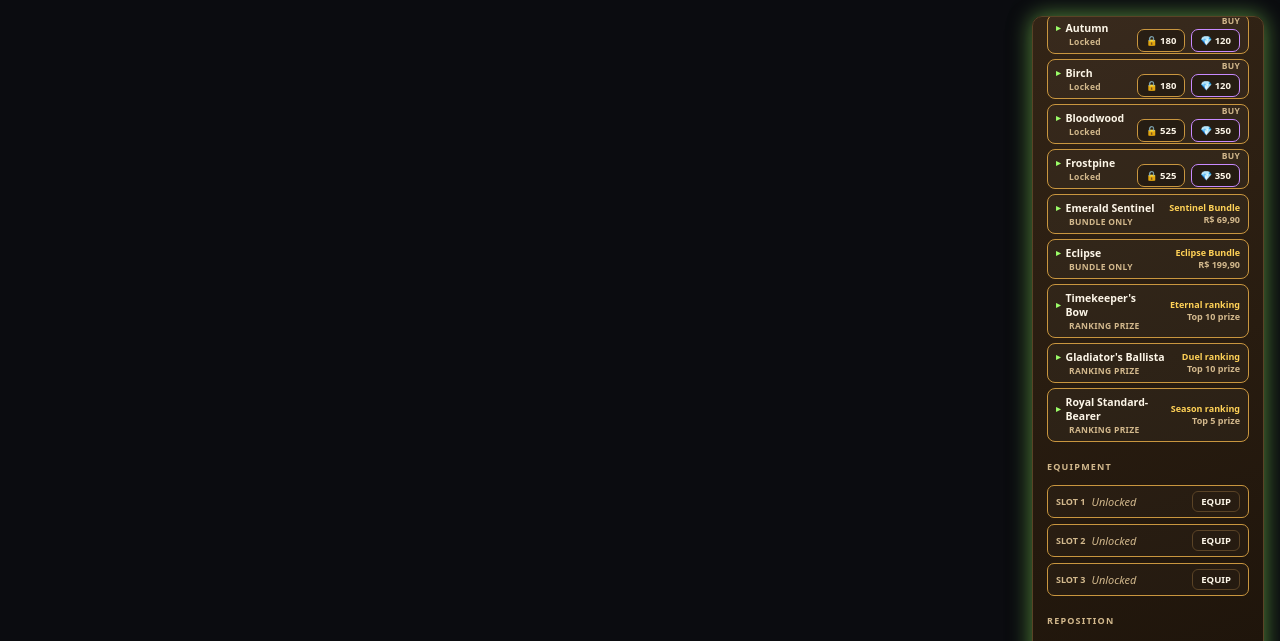
TowerInfoPanel — Equipment slots (BALANCEAMENTO DEFINITIVO spec section 7/8) › the picker shows a clear message instead of an empty list when no inventory item is eligible
This screenshot has width=1280, height=641.
(page scrolled)
Click the button "EQUIP" in the row of "SLOT 1".
click(1216, 501)  # box left=1192, top=491, right=1240, bottom=512
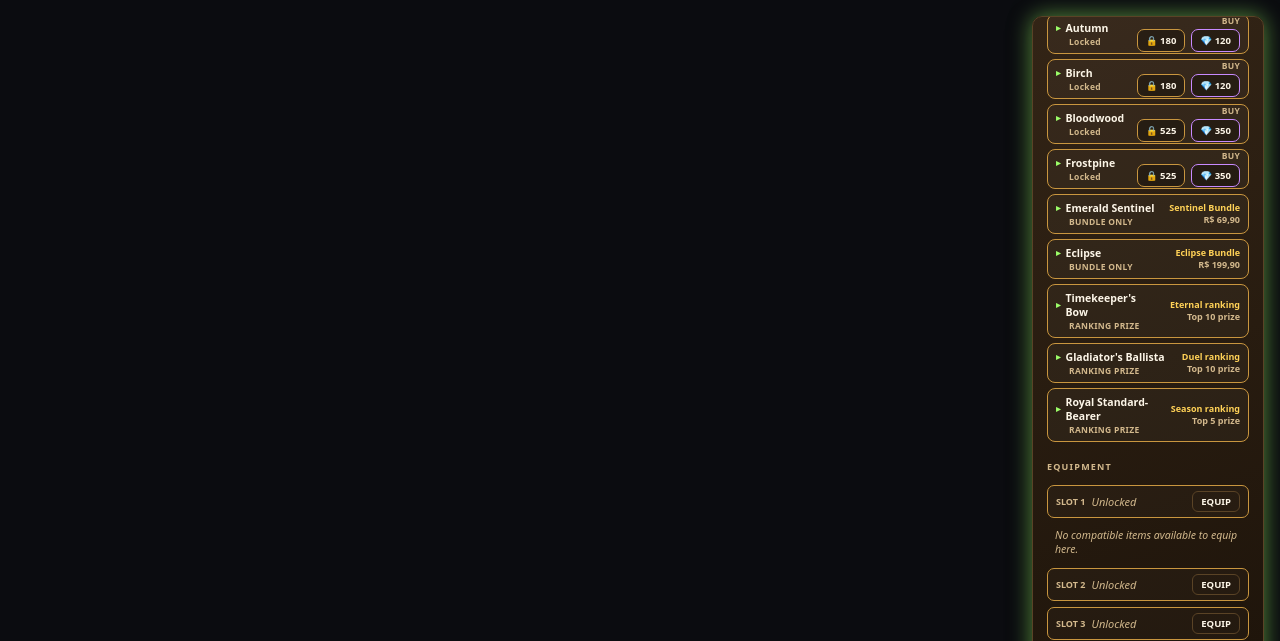
Now the text "No compatible items" is shown, box left=1055, top=528, right=1237, bottom=556
